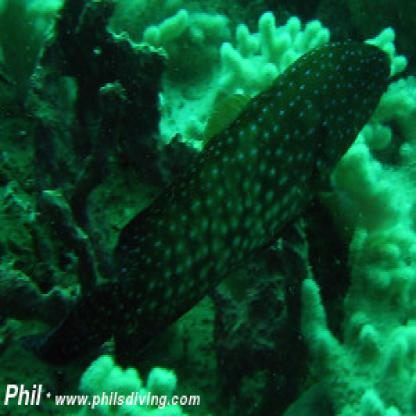grouper: (25, 38, 392, 371)
